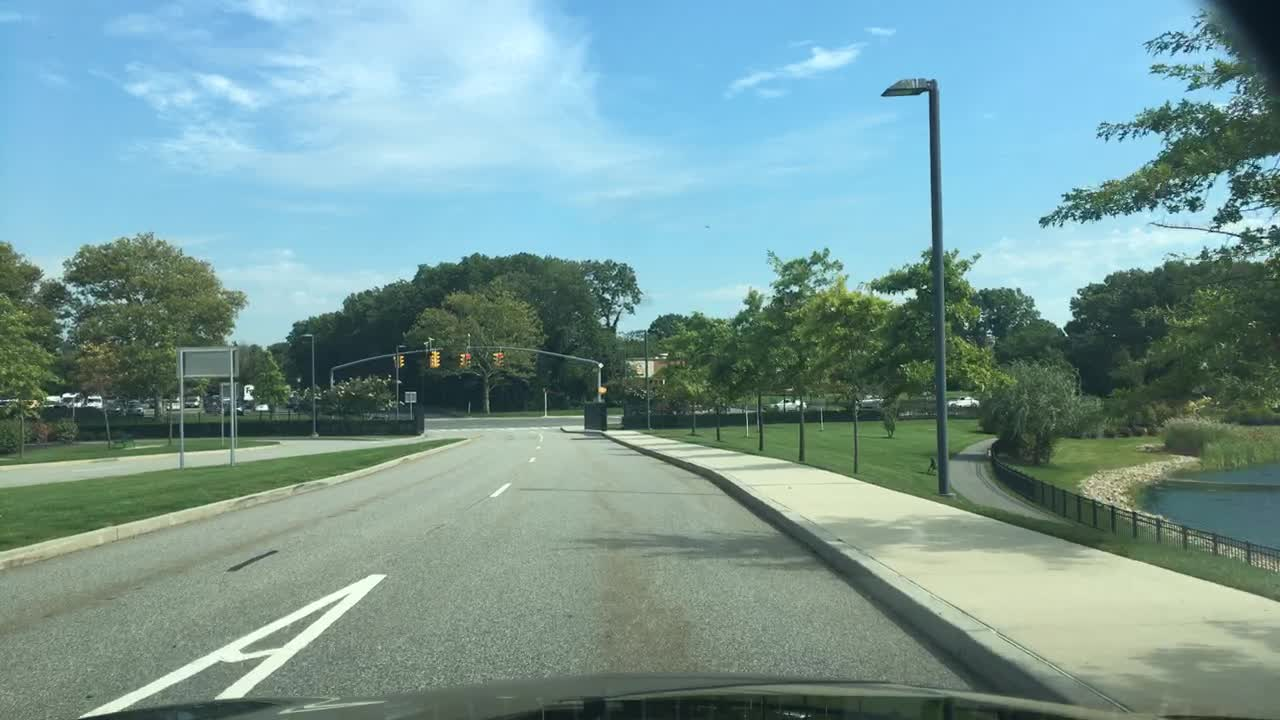car: (770, 397, 806, 413), (948, 395, 978, 409), (125, 400, 153, 414), (857, 392, 884, 406), (181, 394, 201, 408), (165, 399, 181, 413), (45, 395, 60, 407), (256, 403, 272, 414), (234, 405, 245, 414)
traffic light: (464, 352, 473, 370), (489, 353, 496, 373), (397, 355, 405, 368), (436, 352, 442, 369), (496, 351, 502, 368), (460, 354, 466, 369), (430, 353, 434, 368)
traffic sign: (173, 348, 239, 378), (404, 391, 416, 405)
truck: (62, 392, 85, 407), (87, 396, 102, 408)
